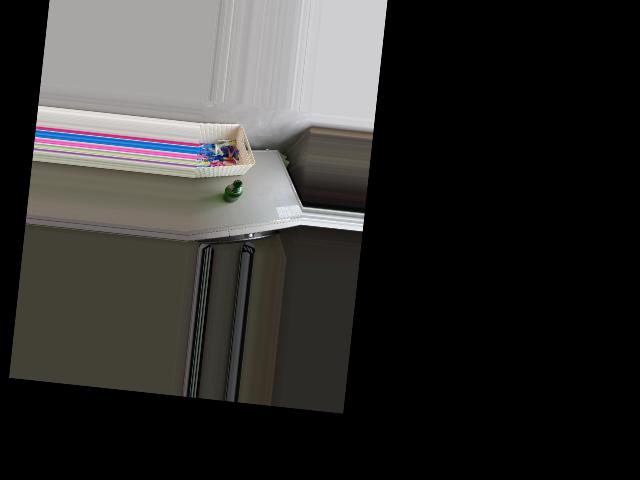beer: (222, 179, 242, 204)
